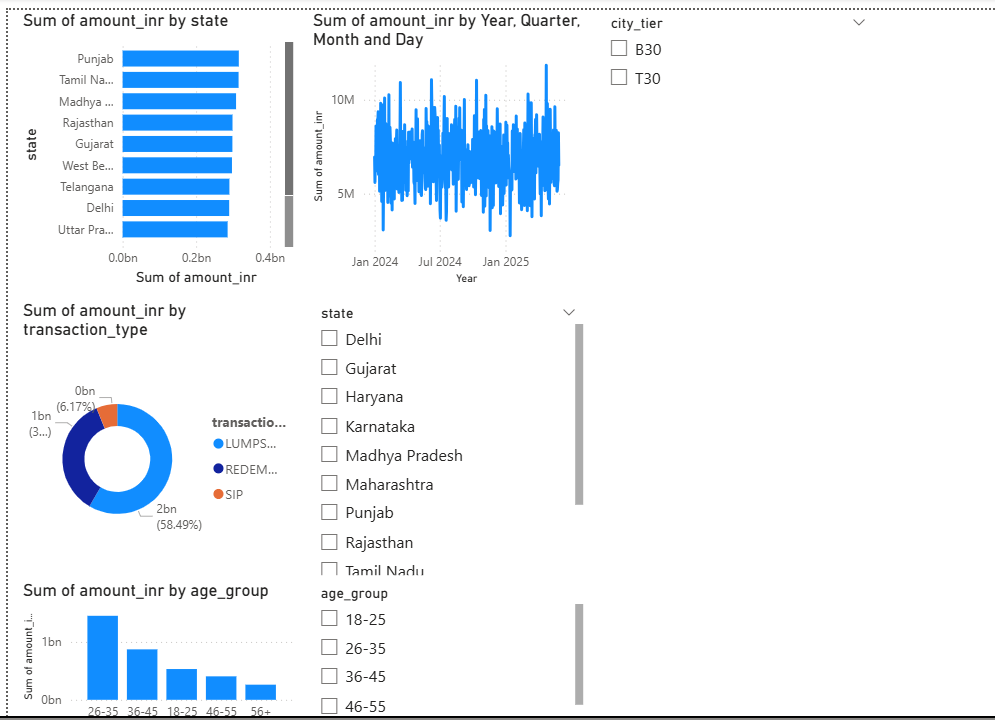

Layout of this report page (visuals, bound fields, positions):
{"tool":"powerbi","page":{"name":"Page 3","canvas":[1280,720],"ordinal":2},"visuals":[{"type":"clusteredBarChart","fields":{"Category":["investor_transactions_clean.state"],"Y":["Sum(investor_transactions_clean.amount_inr)"]},"box":[10,0,280,280],"z":0},{"type":"donutChart","fields":{"Y":["Sum(investor_transactions_clean.amount_inr)"],"Category":["investor_transactions_clean.transaction_type"]},"box":[10,290,280,280],"z":1000},{"type":"clusteredColumnChart","fields":{"Category":["investor_transactions_clean.age_group"],"Y":["Sum(investor_transactions_clean.amount_inr)"]},"box":[10,570,280,150],"z":2000},{"type":"lineChart","fields":{"Y":["Sum(investor_transactions_clean.amount_inr)"],"Category":["investor_transactions_clean.transaction_date.Variation.Date Hierarchy.Year","investor_transactions_clean.transaction_date.Variation.Date Hierarchy.Quarter","investor_transactions_clean.transaction_date.Variation.Date Hierarchy.Month","investor_transactions_clean.transaction_date.Variation.Date Hierarchy.Day"]},"box":[300,0,280,280],"z":3000},{"type":"slicer","fields":{"Values":["investor_transactions_clean.state"]},"box":[300,290,280,280],"z":4000},{"type":"slicer","fields":{"Values":["investor_transactions_clean.age_group"]},"box":[300,570,280,150],"z":5000},{"type":"slicer","fields":{"Values":["investor_transactions_clean.city_tier"]},"box":[590,0,280,280],"z":6000}]}

Visuals, with their boxes on the page's 1280x720 design canvas (x1, y1, x2, y2). These are canvas units, not pixel positions in the 995x720 screenshot, which may show the page scaled, cropped or inside an application window:
clusteredBarChart - investor_transactions_clean.state x Sum(investor_transactions_clean.amount_inr): l=10, t=0, r=290, b=280
donutChart - Sum(investor_transactions_clean.amount_inr) x investor_transactions_clean.transaction_type: l=10, t=290, r=290, b=570
clusteredColumnChart - investor_transactions_clean.age_group x Sum(investor_transactions_clean.amount_inr): l=10, t=570, r=290, b=720
lineChart - Sum(investor_transactions_clean.amount_inr) x investor_transactions_clean.transaction_date.Variation.Date Hierarchy.Year: l=300, t=0, r=580, b=280
slicer - investor_transactions_clean.state: l=300, t=290, r=580, b=570
slicer - investor_transactions_clean.age_group: l=300, t=570, r=580, b=720
slicer - investor_transactions_clean.city_tier: l=590, t=0, r=870, b=280
